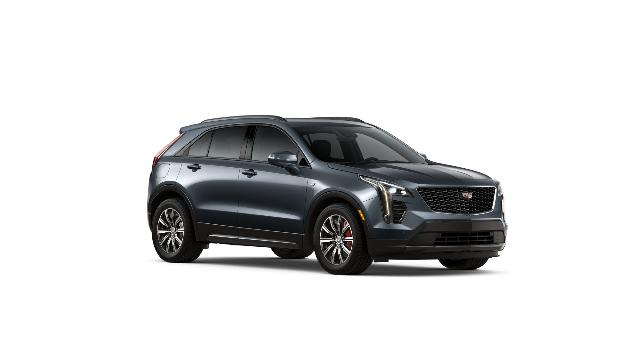cadillac: (147, 114, 508, 274)
